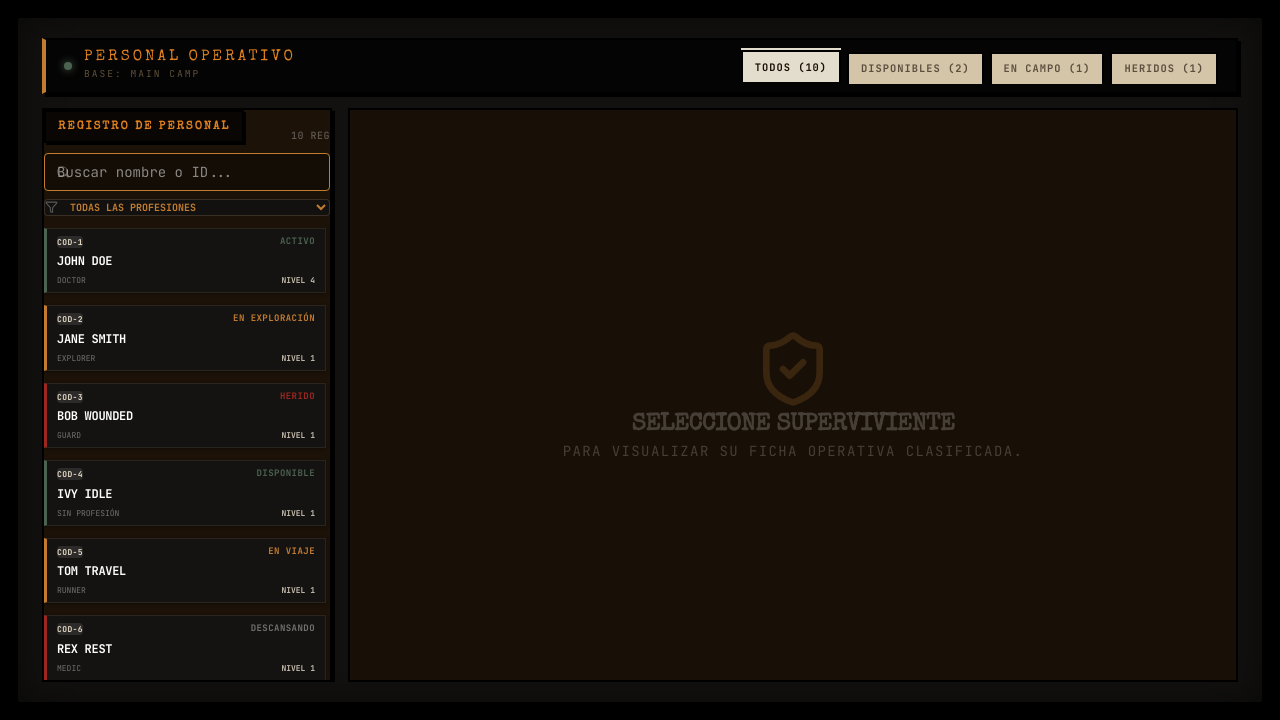
TravelTeam › filters persons by profession selection
Select "EXPLORER" in the dropdown. click: (198, 207)
box: 66,200 -> 329,215
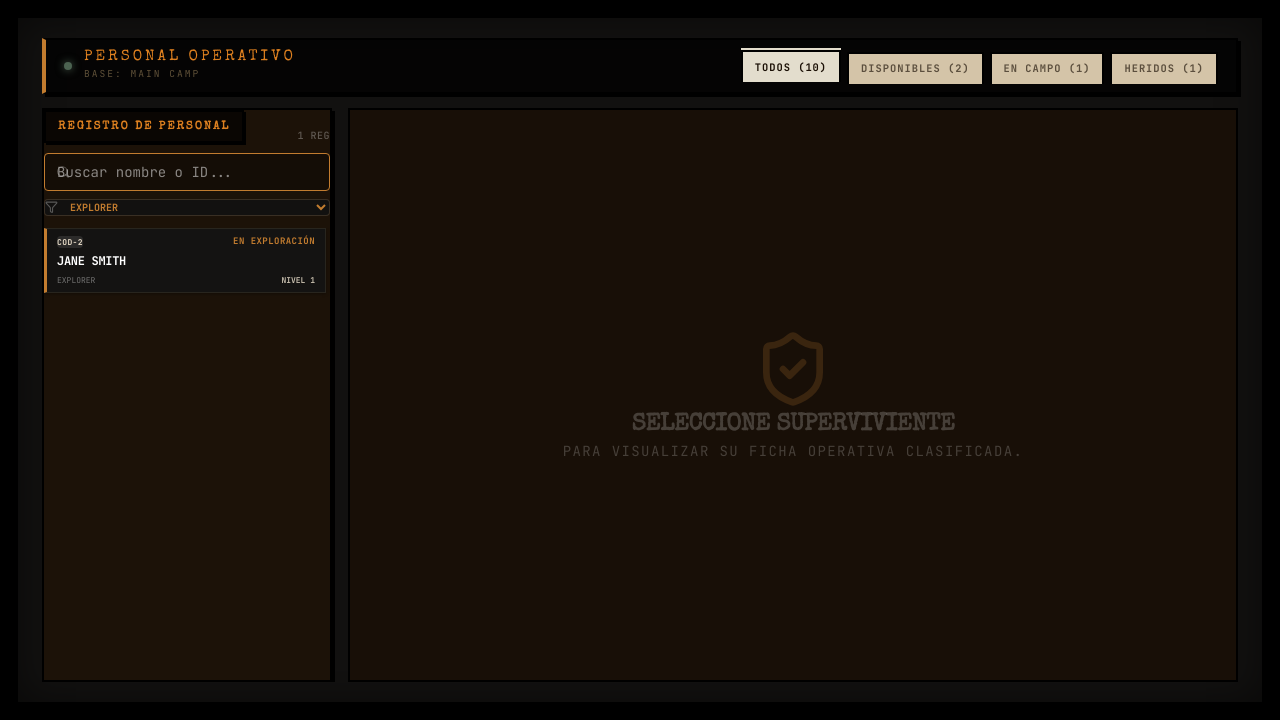
expect the heading "Jane Smith" is shown: met, box 57,253 -> 126,269
expect the button "John Doe" is gone: met
